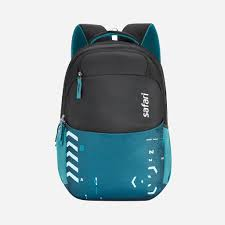backpack: (54, 22, 172, 201)
